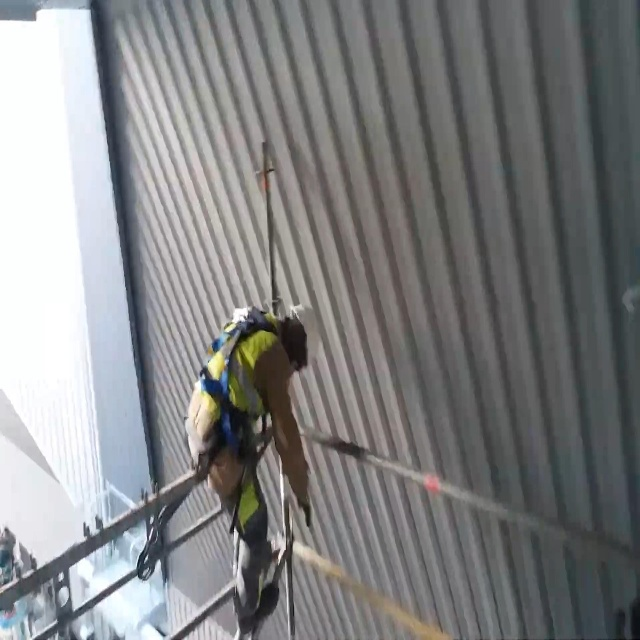Arnes_seguridad: (191, 304, 283, 481)
